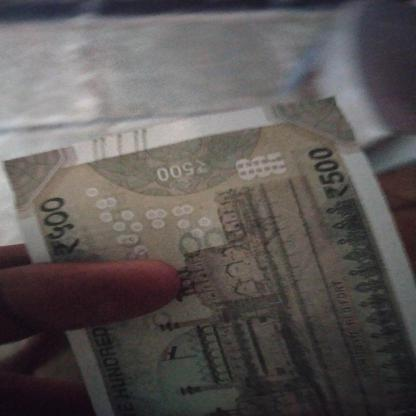New500Back: (35, 100, 416, 416)
